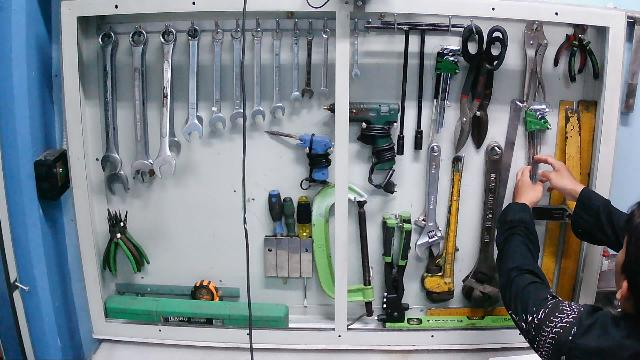kunci_l_bintang: (523, 103, 555, 188)
